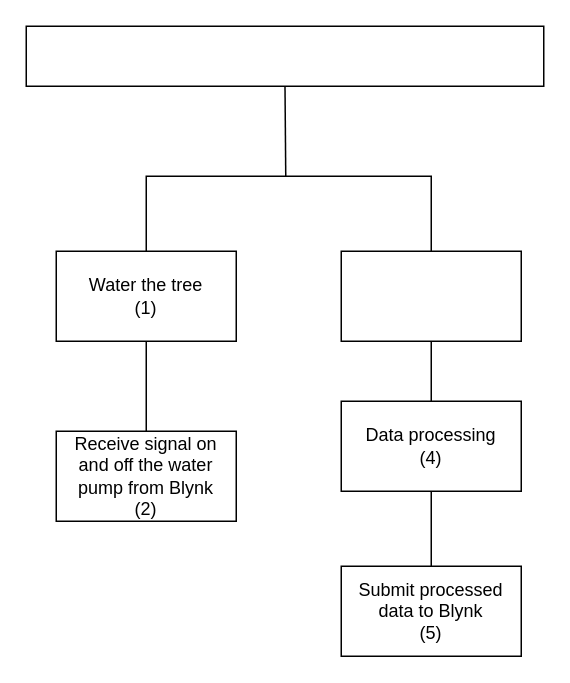
This 570x683 diagram has some shape labels left out. Each missing label, with the centre of its shape:
"Automatic Plant Watering System" goes at pixel 284 55.
"Measure soil moisture (3)" goes at pixel 430 295.
